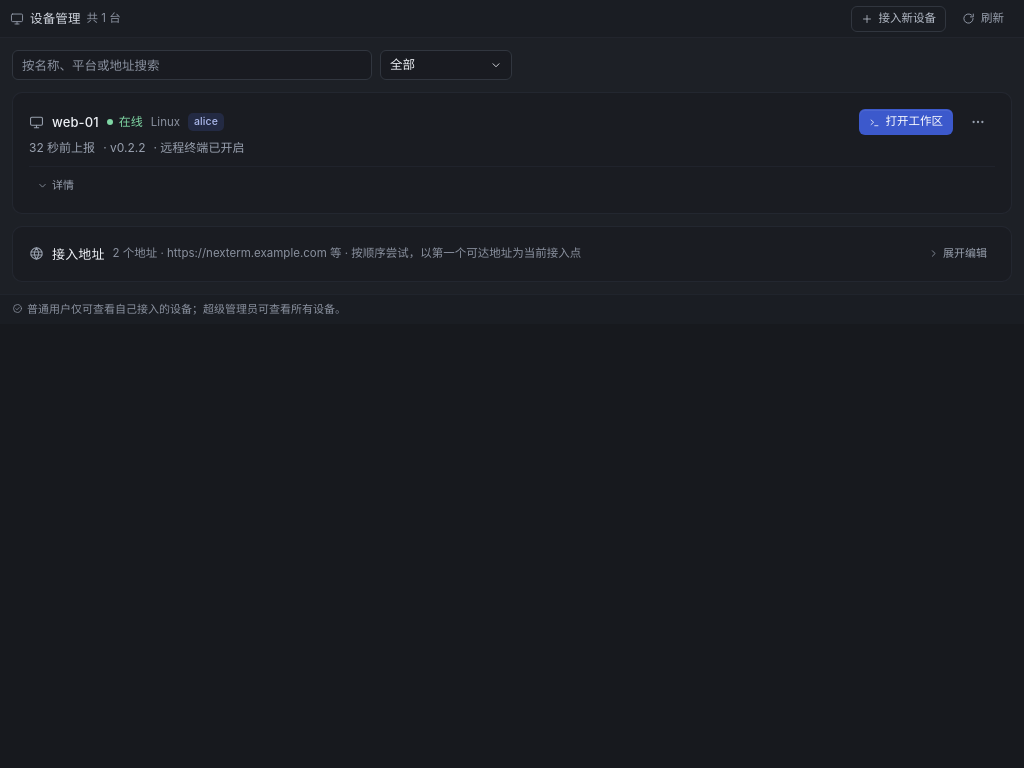
Test: Device management - guided enrollment › shows the waiting state with a live status region and the remaining validity
Click the button "接入新设备" at (898, 18), box x1=850 y1=6 x2=946 y2=32
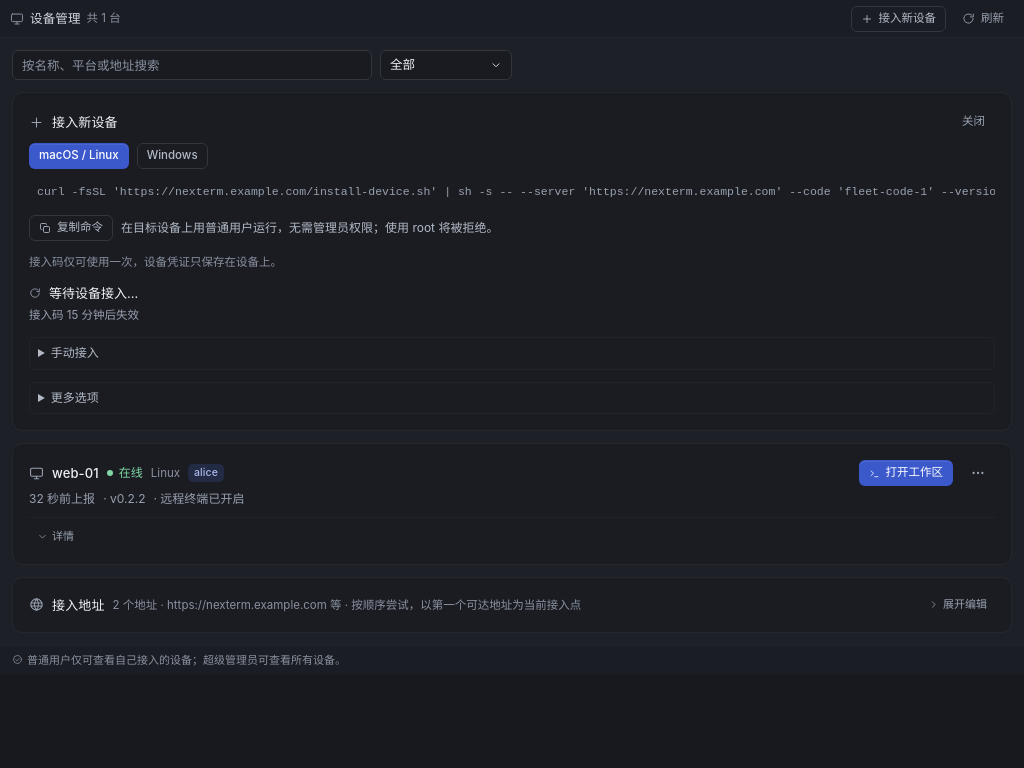
expect the text "接入码 15 分钟后失效" is shown: met, box x1=29 y1=308 x2=139 y2=322
